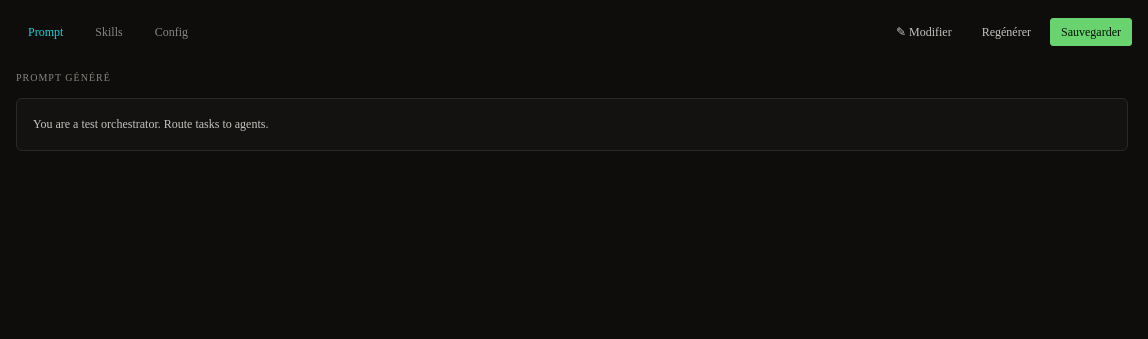
Test case: OrchestratorResultPanel › skills tab shows limitations
Click the button "Skills": (109, 32) [79,12,139,52]
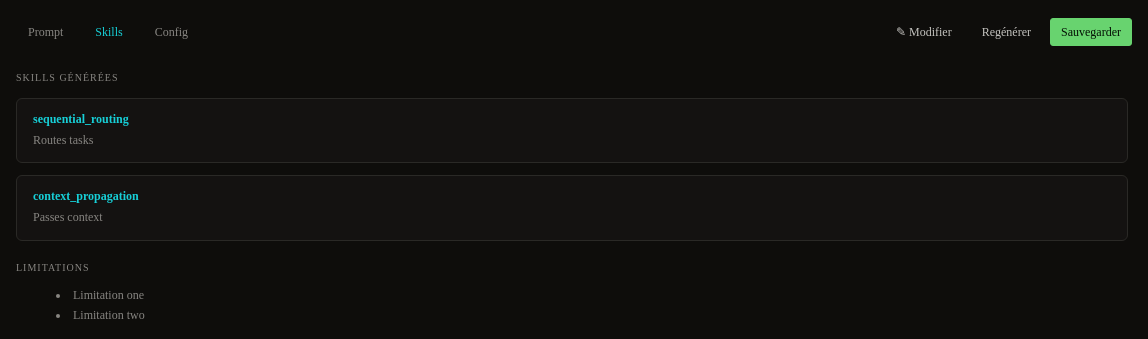
Expected: the list item "Limitation one" is shown, [73,288,144,302]
Expected: the list item "Limitation two" is shown, [73,308,145,322]
